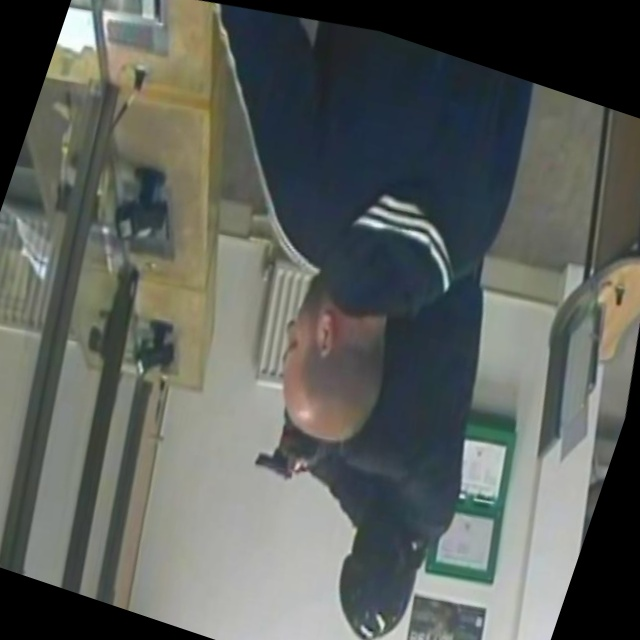gun: (239, 424, 317, 503)
